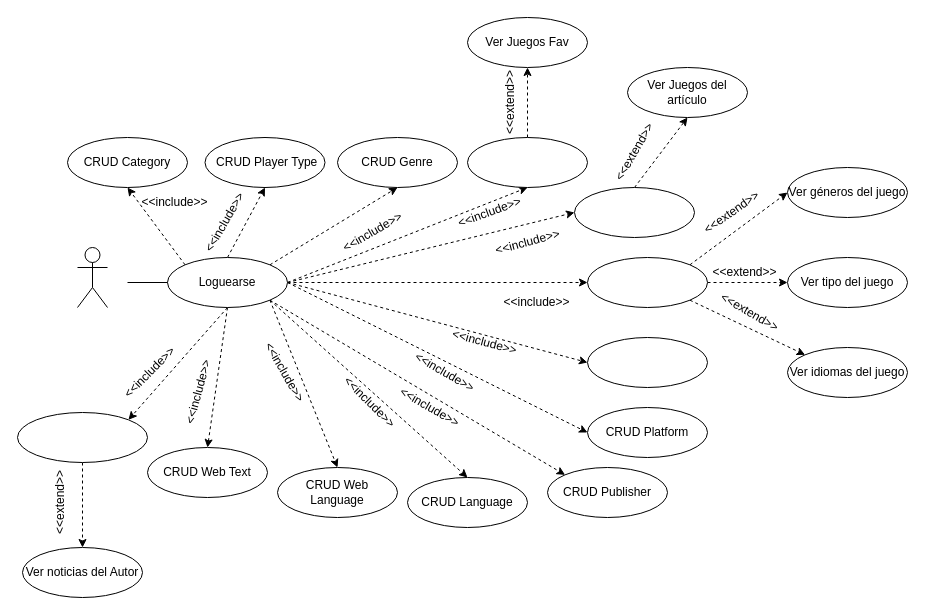
This 925x615 diagram has some shape labels left out. The shapes that lost their labels are listed below. From the top down, each one's centre as x and y in pixels, then its label:
At pixel 527 162: "CRUD User".
At pixel 634 212: "CRUD Article".
At pixel 92 277: "Admin".
At pixel 647 282: "CRUD Game".
At pixel 647 362: "CRUD Dev".
At pixel 82 437: "Crear, ver y actualizar Author".
